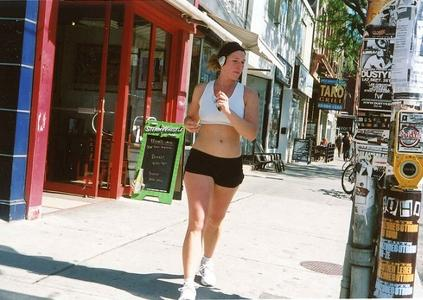person: (180, 42, 261, 300)
